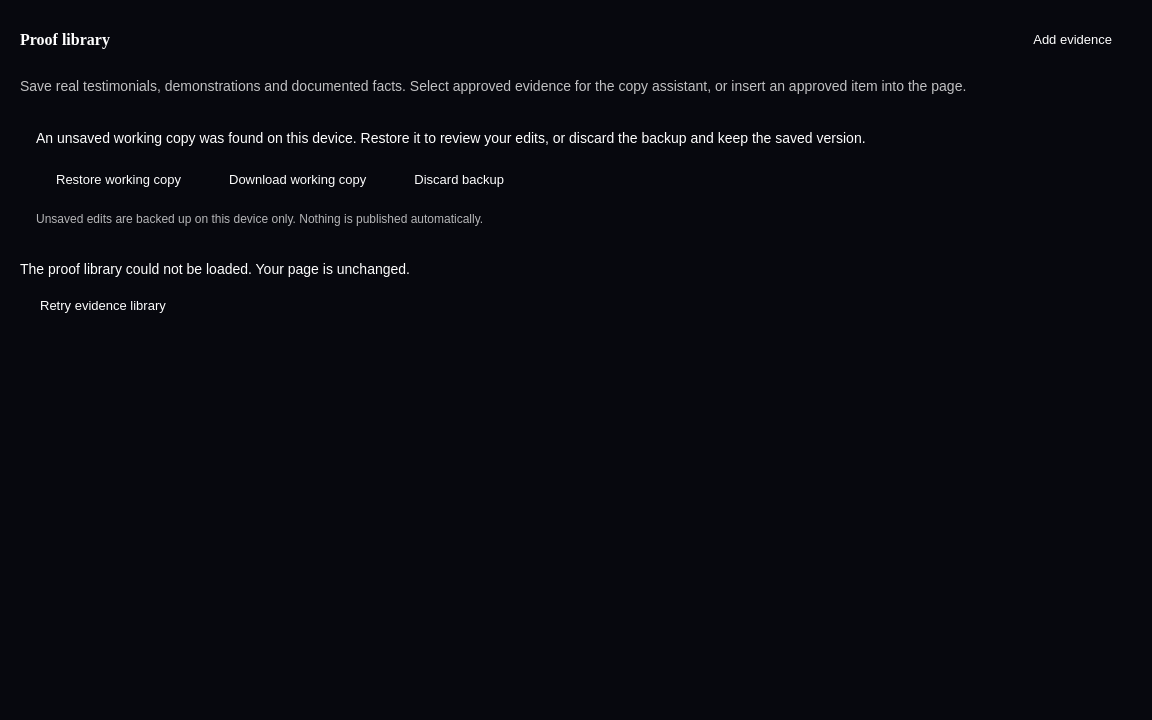
Test: proof library editing › backs up new evidence even when the library read is unavailable
The width and height of the screenshot is (1152, 720).
Earlier steps of the test are not shown.
Click the button "Restore working copy" at [118, 179], box [36,160,201,199]
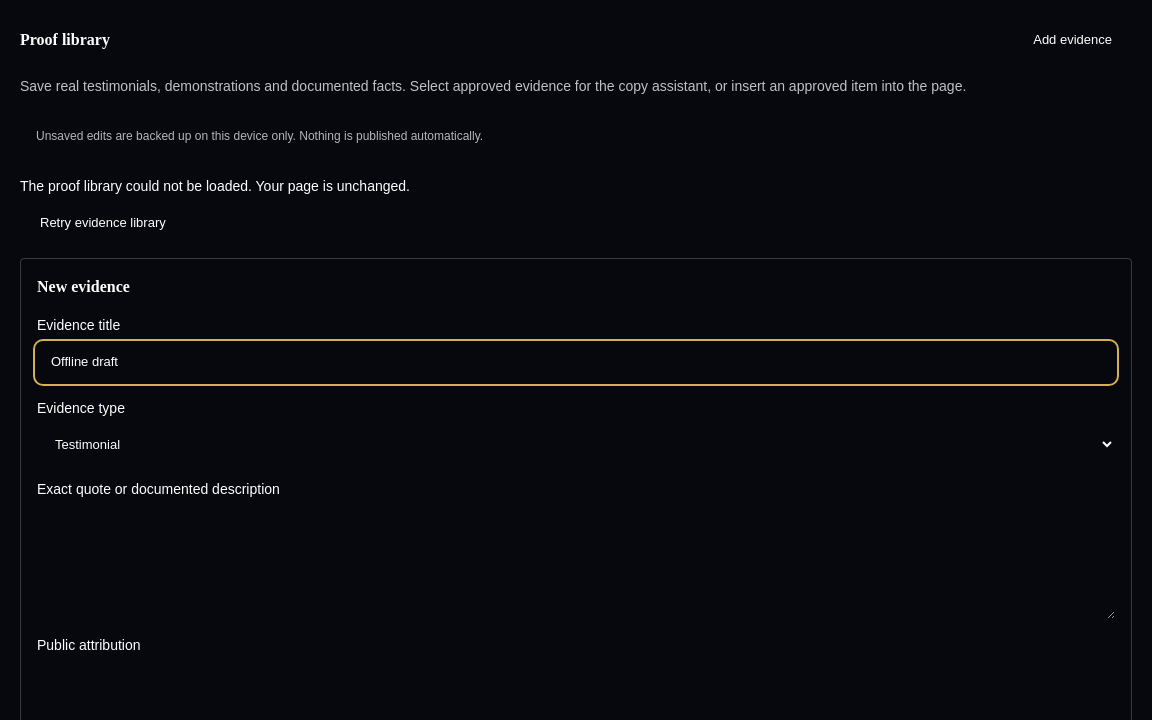
Check: the field labelled "Evidence title" holds "Offline draft", box [37,343,1115,382]
